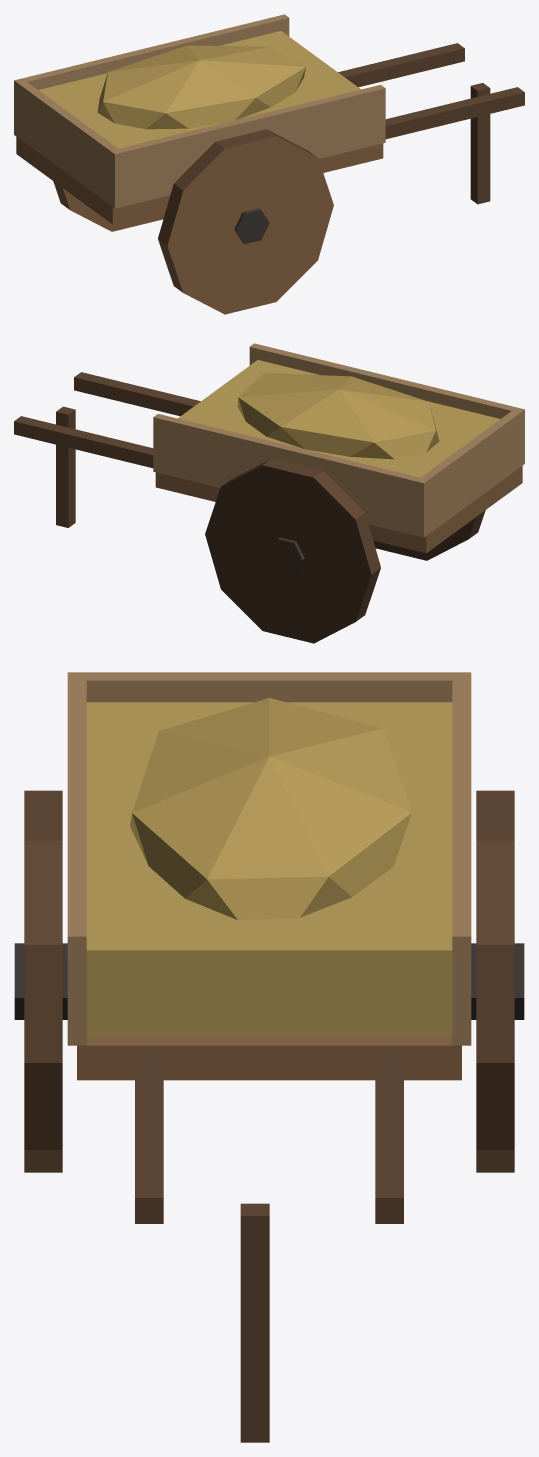
The model's file is cart_grain.glb.
The picture shows the model from 3 angles, top to bottom: view 1: azimuth 30°, elevation 25°; view 2: azimuth 150°, elevation 25°; view 3: azimuth 270°, elevation 25°; orthographic projection. The views are drawn at different scales.
Parts seen in each view (by area): view 1: cart, cart_grain_load; view 2: cart, cart_grain_load; view 3: cart_grain_load, cart.
Part boxes in pixels (x1,y1,x2,y2): cart: (14, 14, 524, 314); cart_grain_load: (38, 31, 360, 148); cart: (14, 343, 524, 643); cart_grain_load: (178, 360, 500, 477); cart_grain_load: (86, 698, 452, 1037); cart: (14, 672, 524, 1442).
Bounding box in the file's own units: 2.05 × 0.94 × 1.06.
